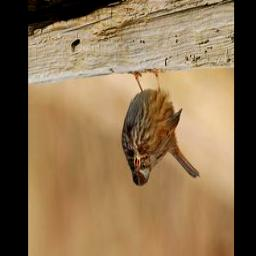Sparrow: (122, 69, 202, 188)
